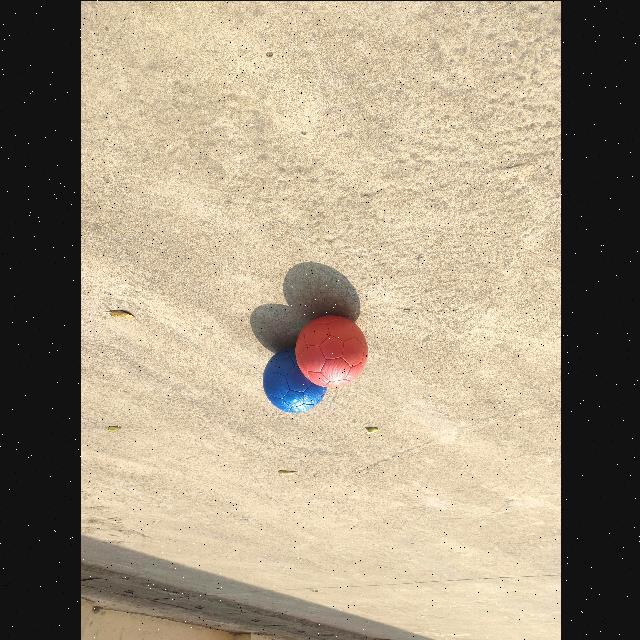B: (261, 347, 327, 412)
R: (294, 314, 367, 387)
